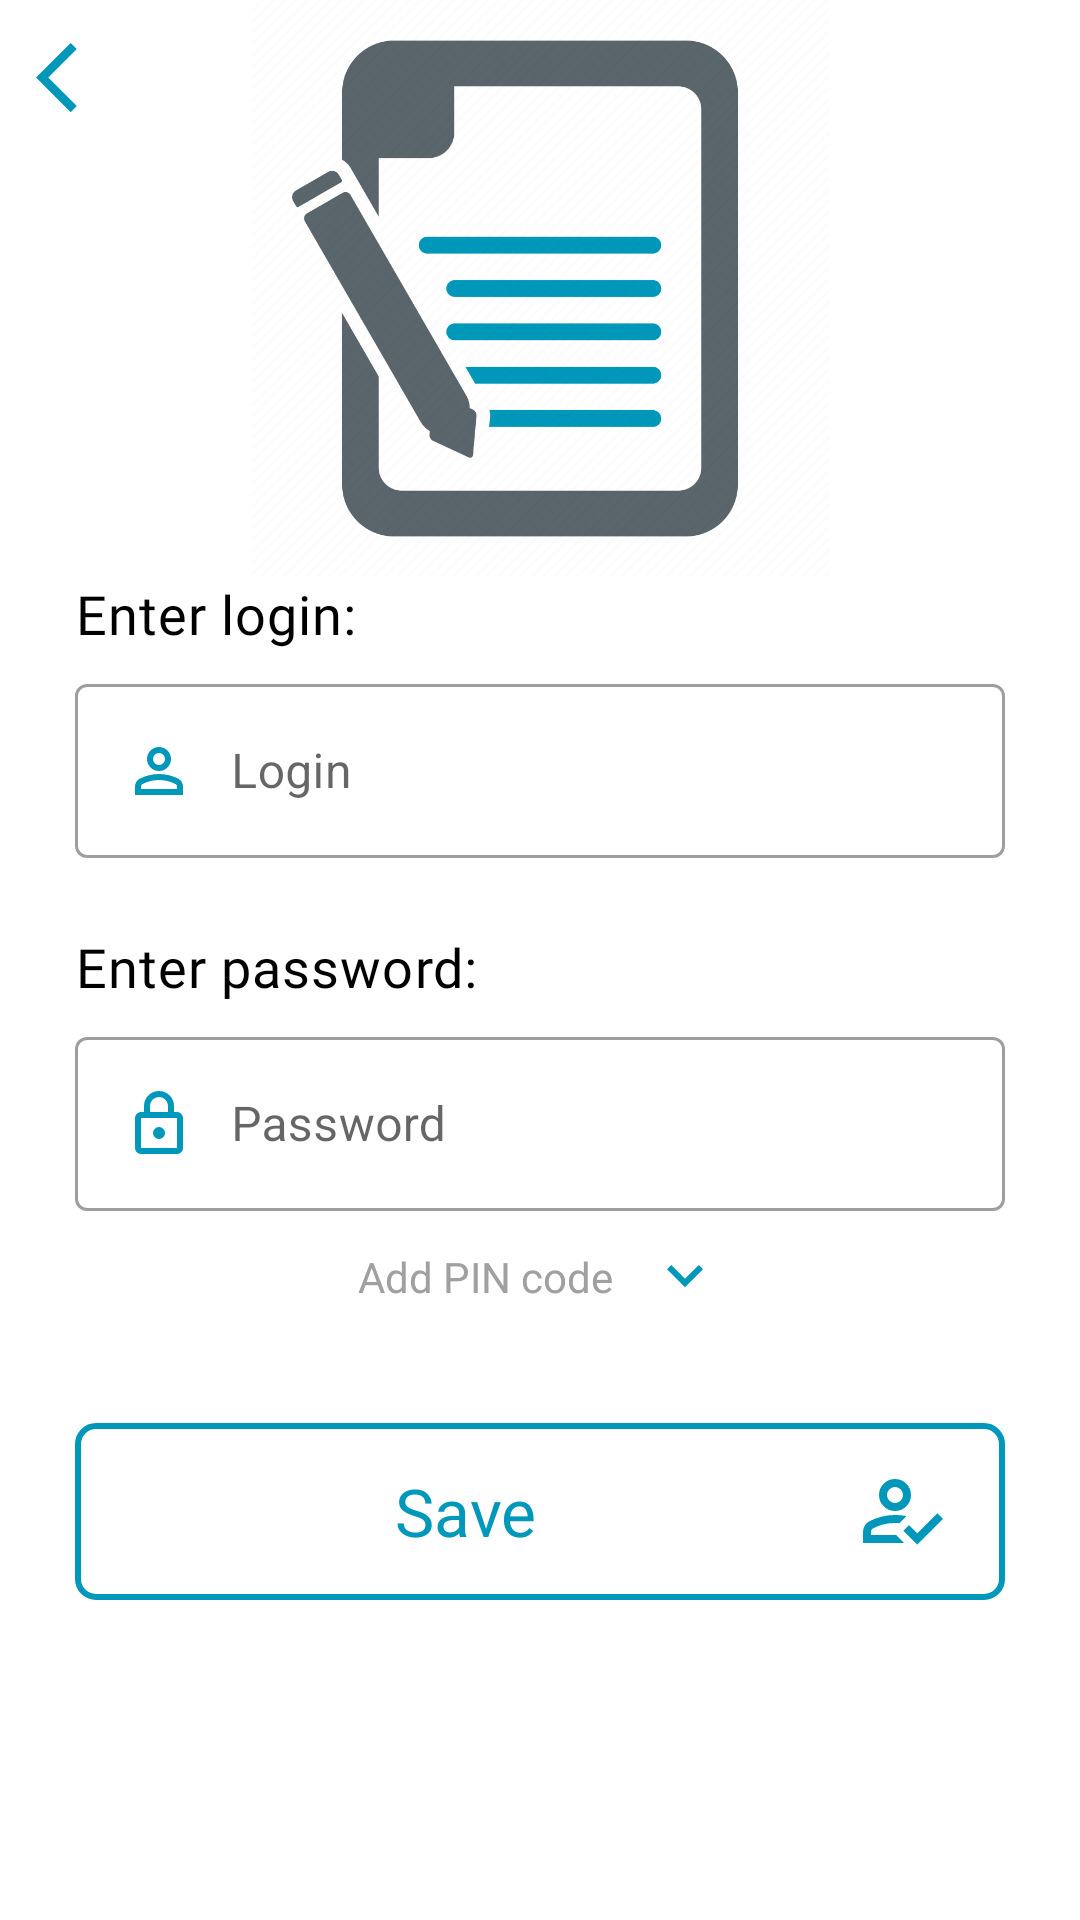

Screen size 1080 x 1920. Icon name, then its center in pixels as [x,y]:
Press to back: [56,77]
